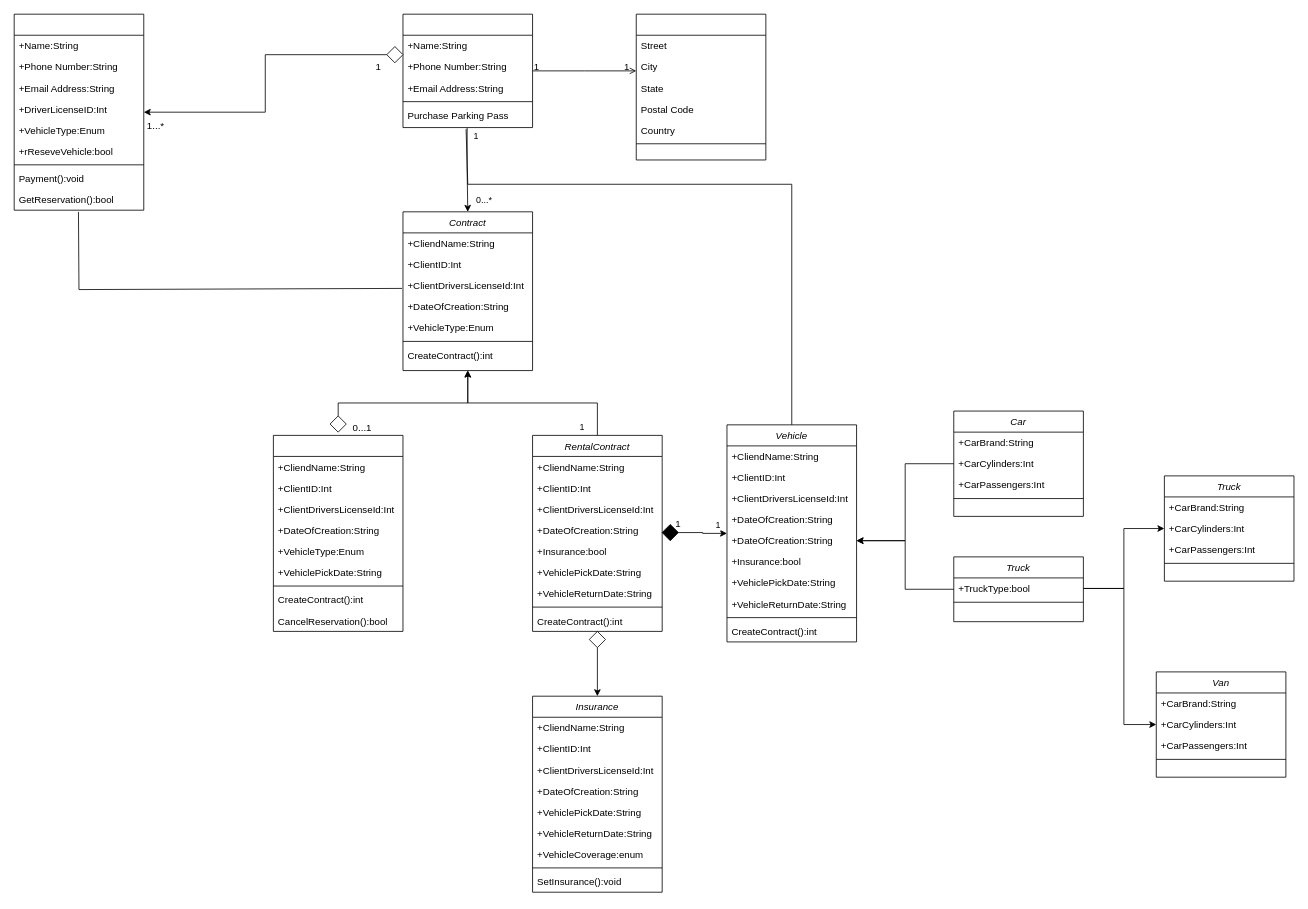
Image size: 1308x909. Some labels were removed from this diagram. The shapes that lost their labels are listed below. From the top down, each one's box as (x1, y1, x2, y2) in pixels, then its label:
(402, 13, 533, 128): Store
(635, 13, 766, 160): Address
(13, 13, 144, 210): Client
(273, 435, 403, 631): ReservationContract
